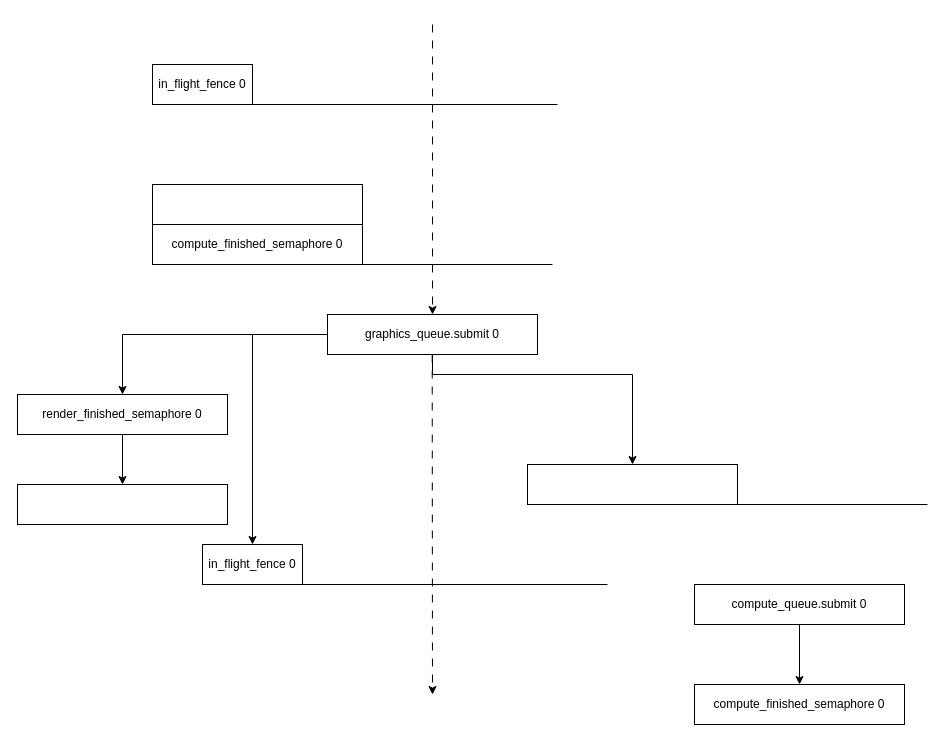
Image size: 946x742. Some labels were removed from this diagram. The centre of each missing label's shape, as x and y in pixels:
"compute_acquired_semaphore 0" belongs at (x=632, y=484).
"image_acquired_semaphore 0" belongs at (x=257, y=204).
"vkQueuePresentKHR 0" belongs at (x=122, y=504).
